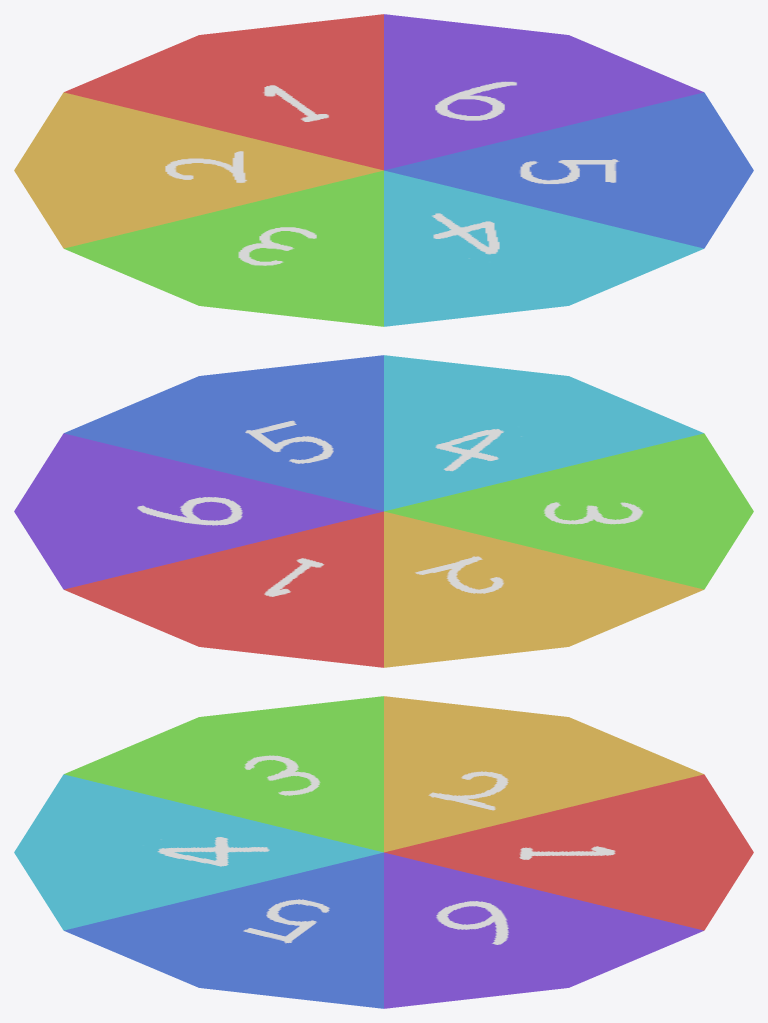
Rendered from men.glb.
The picture shows the model from 3 angles, top to bottom: view 1: azimuth 30°, elevation 25°; view 2: azimuth 150°, elevation 25°; view 3: azimuth 270°, elevation 25°; orthographic projection.
Parts seen in each view (by area): view 1: men; view 2: men; view 3: men.
Boxes of the visible parts, x1,y1,x2,y2 form: men: (14, 14, 753, 326); men: (14, 355, 753, 667); men: (14, 696, 753, 1008).
Size of the model in its own units: 2.21 by 0 by 2.21.
1 material, 1 textured.
